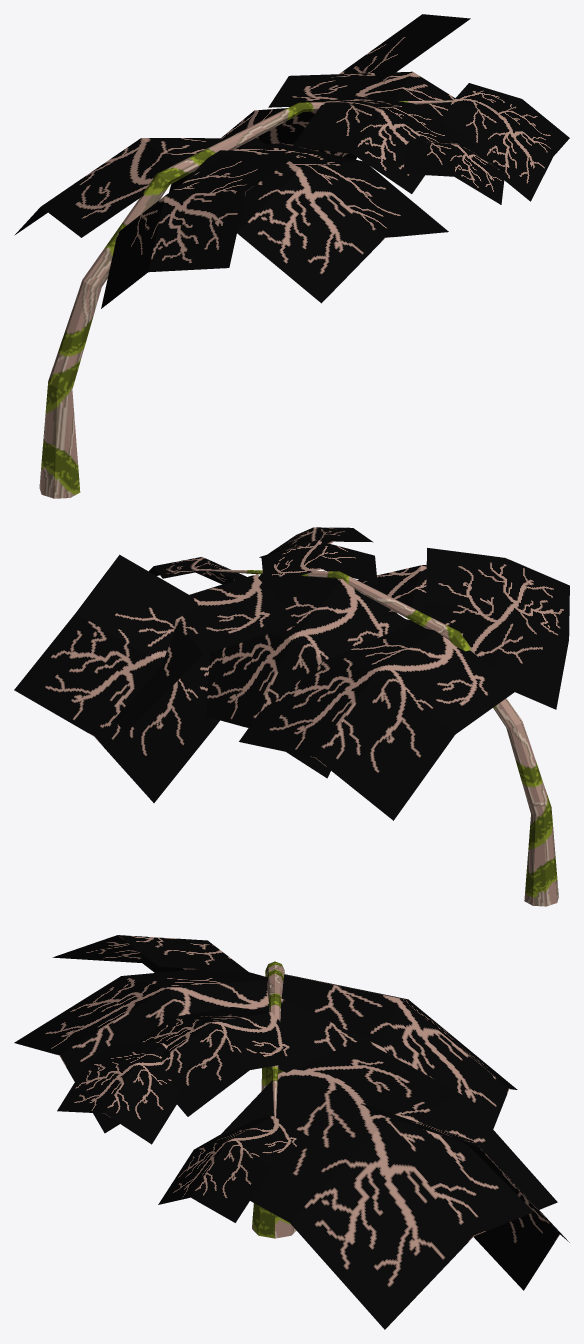
The model's file is TreeNoLeaf_01.obj.
The picture shows the model from 3 angles, top to bottom: view 1: azimuth 30°, elevation 25°; view 2: azimuth 150°, elevation 25°; view 3: azimuth 270°, elevation 25°; orthographic projection. The views are drawn at different scales.
Visible parts, largest first — view 1: TreeNoLeaf_01_Circle.002; view 2: TreeNoLeaf_01_Circle.002; view 3: TreeNoLeaf_01_Circle.002.
Boxes of the visible parts, bbox=[...] form: TreeNoLeaf_01_Circle.002: bbox=[14, 14, 569, 498]; TreeNoLeaf_01_Circle.002: bbox=[14, 527, 569, 906]; TreeNoLeaf_01_Circle.002: bbox=[14, 935, 569, 1329].
Bounding box in the file's own units: 28.15 × 16.68 × 23.13.
